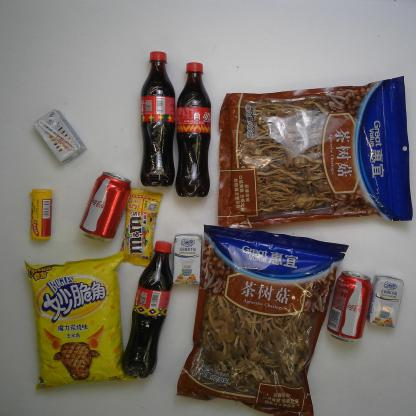Candy: (28, 186, 53, 242)
Chocolate: (110, 185, 166, 268)
Dried Food: (172, 221, 348, 414), (213, 74, 413, 230)
Drink: (119, 237, 174, 378), (169, 58, 213, 197), (136, 49, 178, 187), (78, 170, 133, 244), (326, 270, 374, 344)
Milk: (32, 108, 87, 165), (365, 273, 404, 329), (171, 232, 203, 285)
Puffed Food: (23, 249, 128, 390)
